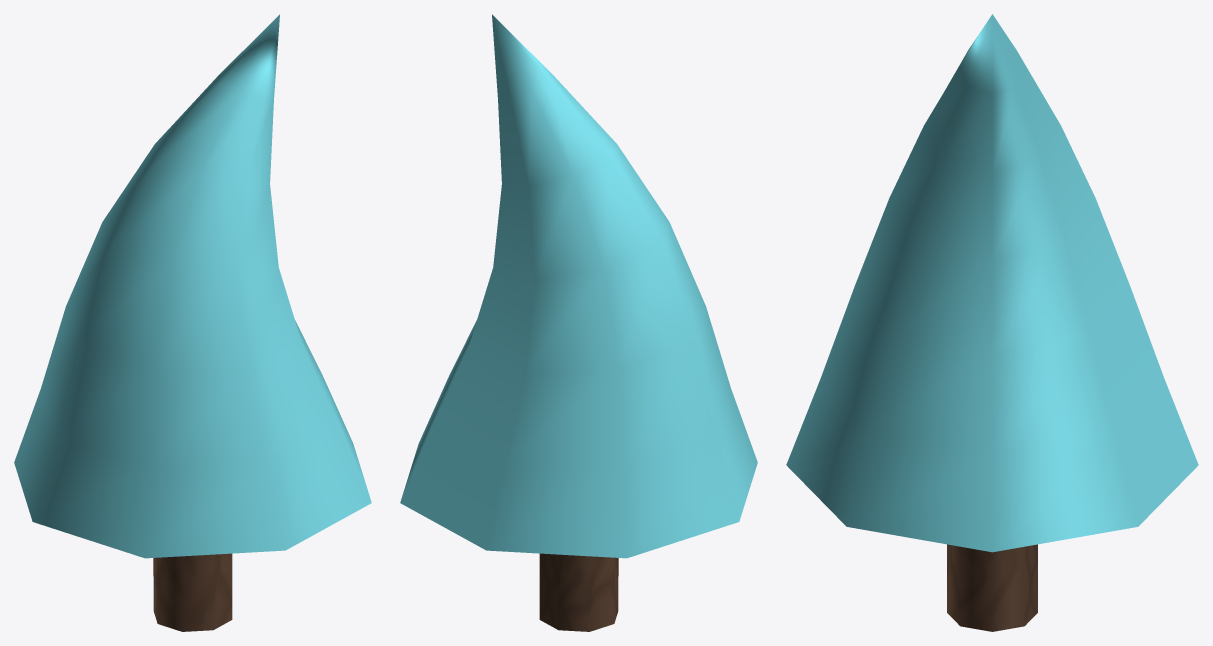
Rendered from TreeB1.fbx.
3 views of the same model, side by side, from view 1: azimuth 30°, elevation 25°; view 2: azimuth 150°, elevation 25°; view 3: azimuth 270°, elevation 25° (orthographic). The views are drawn at different scales.
Visible parts, largest first — view 1: TreeB1_pCone1; view 2: TreeB1_pCone1; view 3: TreeB1_pCone1.
Boxes of the visible parts, box(x1,y1,x2,y2) form: TreeB1_pCone1: box(14, 14, 371, 631); TreeB1_pCone1: box(400, 14, 757, 631); TreeB1_pCone1: box(786, 14, 1198, 631).
Size of the model in its own units: 6 by 10.37 by 6.
1 material, 1 textured.
